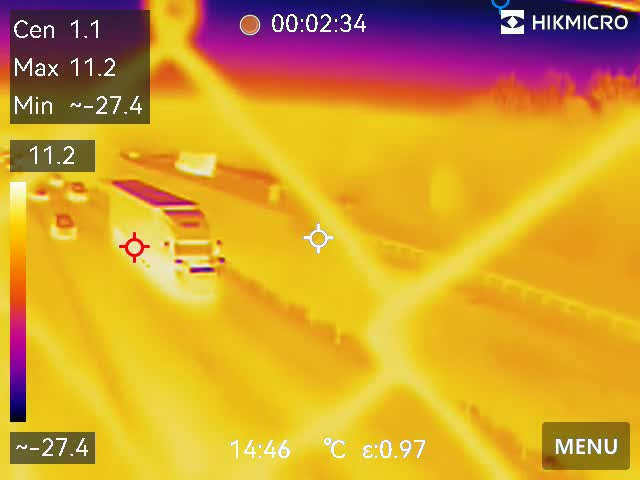heavyTruck: (106, 180, 221, 296), (174, 149, 224, 176)
